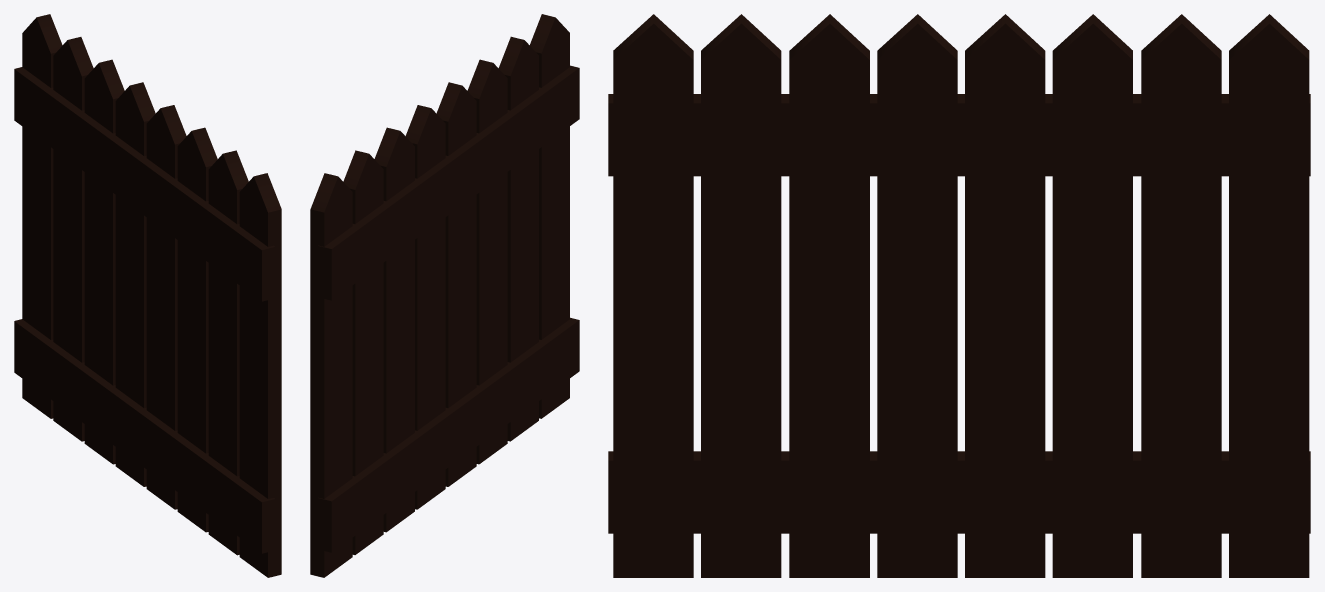
The model's file is Fenced_in.FBX.
The picture shows the model from 3 angles, left to right: view 1: azimuth 30°, elevation 25°; view 2: azimuth 150°, elevation 25°; view 3: azimuth 270°, elevation 25°; orthographic projection. The views are drawn at different scales.
Visible parts, largest first — view 1: Box001; view 2: Box001; view 3: Box001.
Boxes of the visible parts, box(x1,y1,x2,y2) form: Box001: box(14, 14, 281, 577); Box001: box(310, 14, 579, 577); Box001: box(608, 14, 1310, 577).
Size of the model in its own units: 0.2977 by 5.14 by 5.89.
